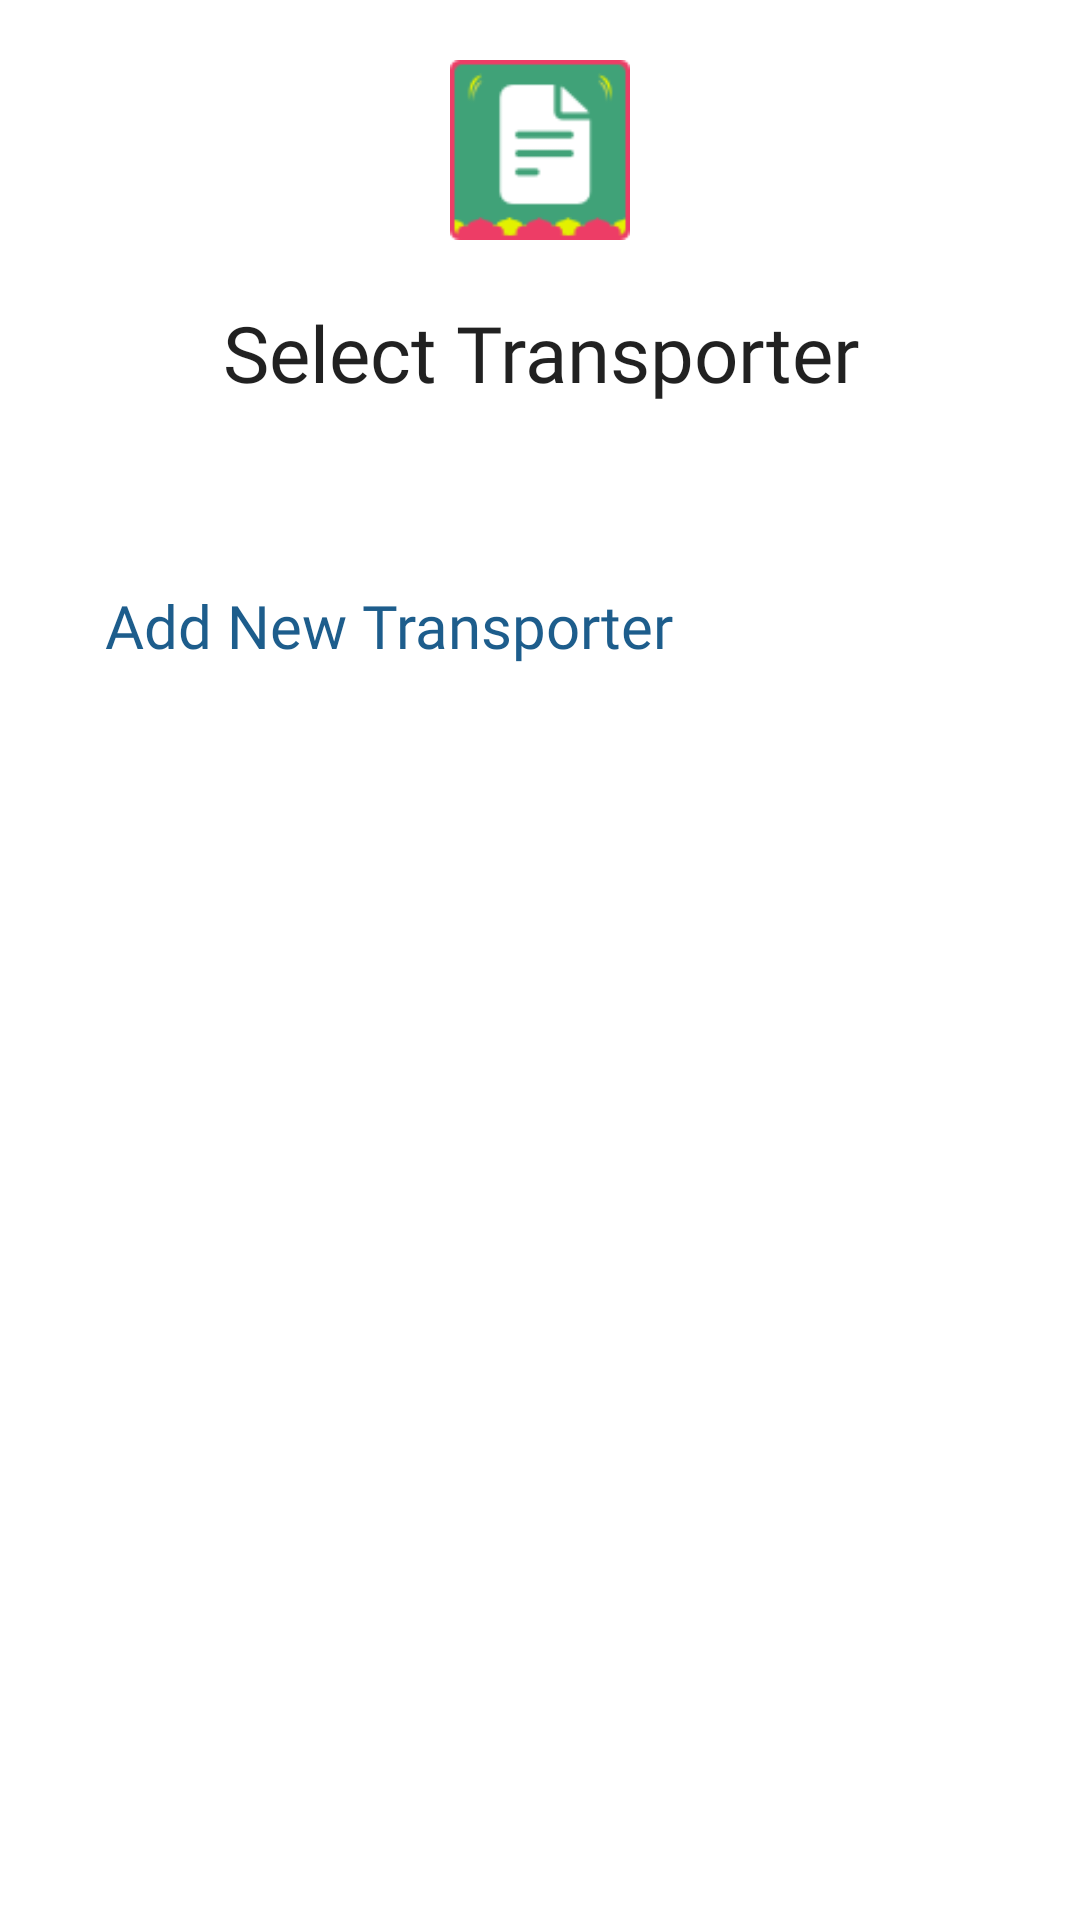

Icon bounding boxes for this 1080×1920 phone screenshot, format bbox=(x1, y1, x2, y2):
thumb: bbox=(450, 60, 630, 240)
